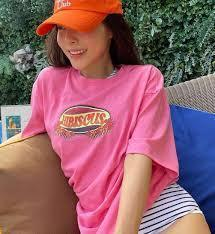Tshirt: (18, 62, 180, 234)
